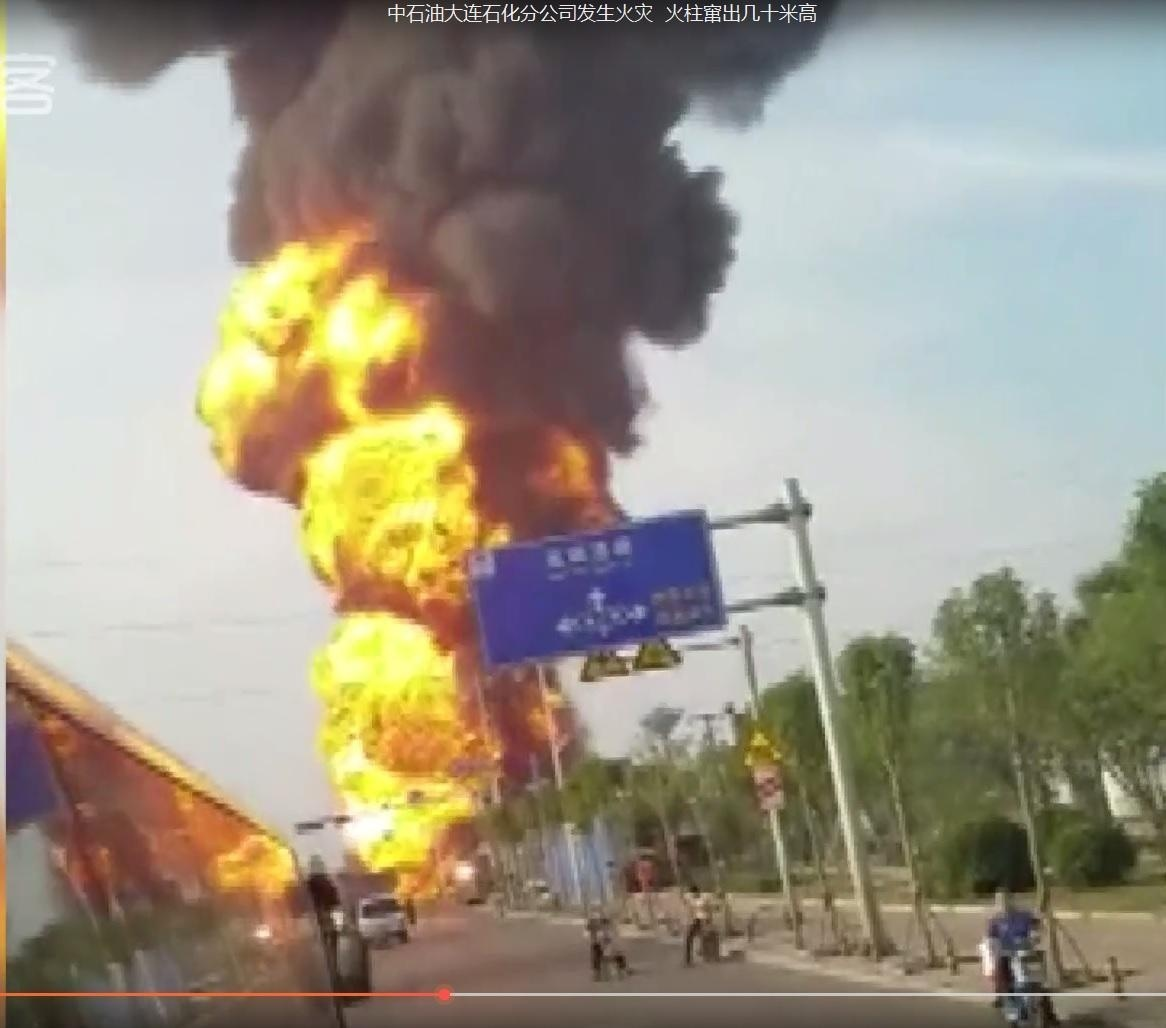fire: (168, 203, 601, 924)
